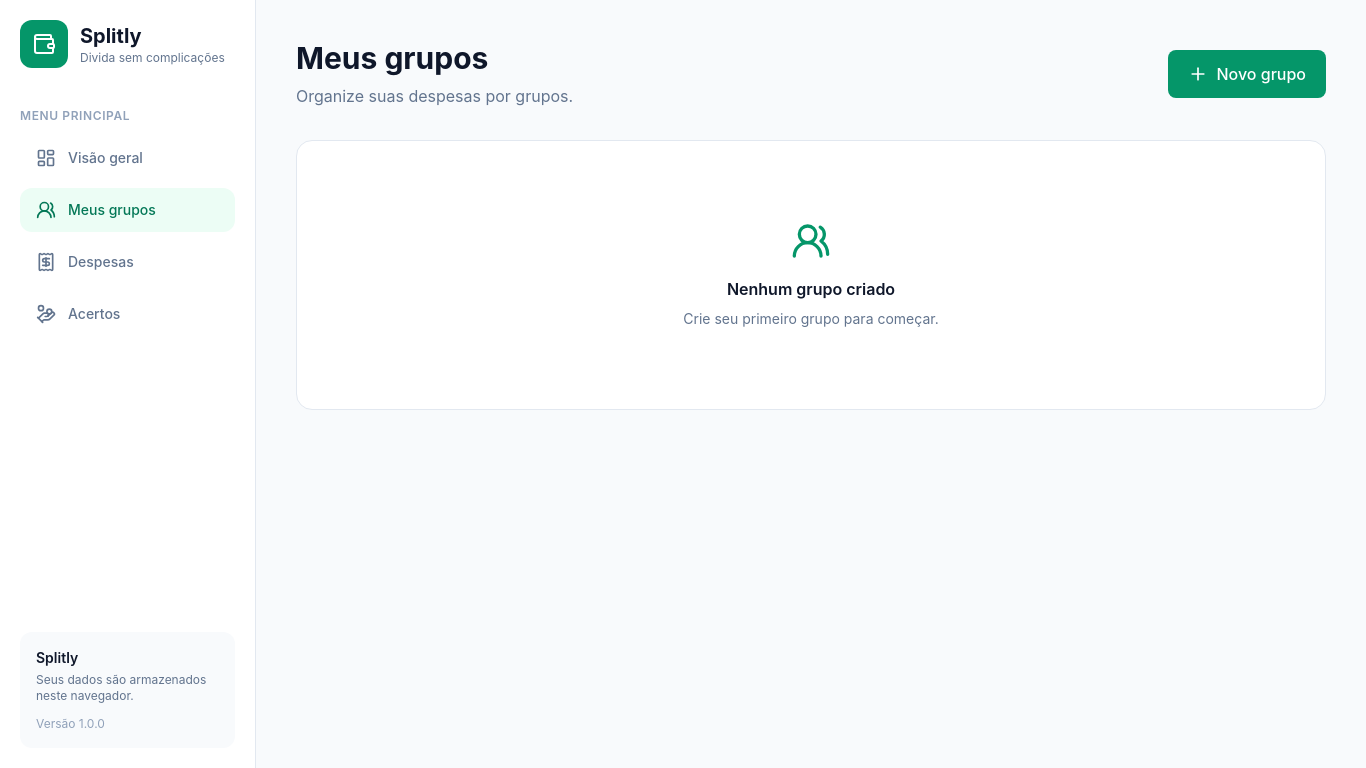
Test: Application integration › should create a group
Click the button "Novo grupo".
click(1247, 74)  # box left=1168, top=50, right=1326, bottom=98
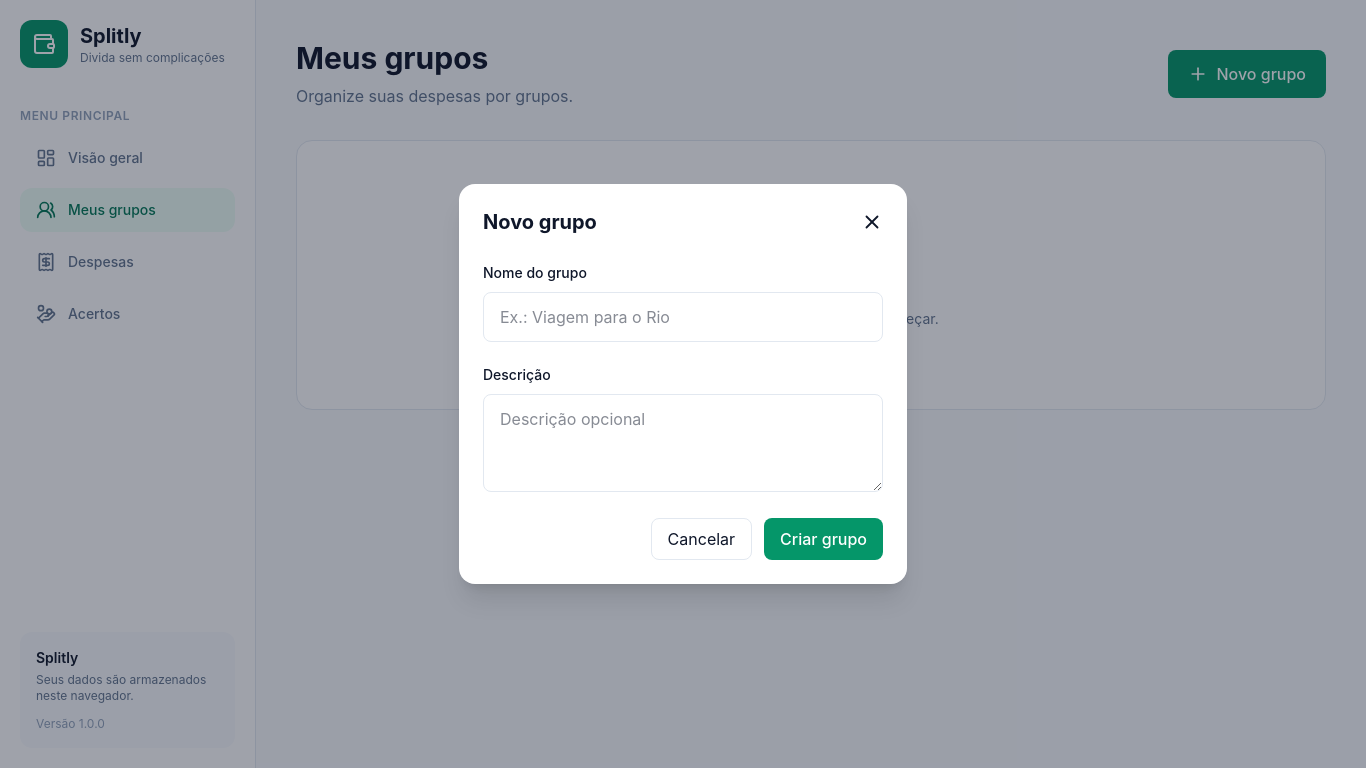
Type "Viagem" into the field labelled "Nome do grupo".
click(683, 317); type("Viagem")  # box left=483, top=292, right=883, bottom=342
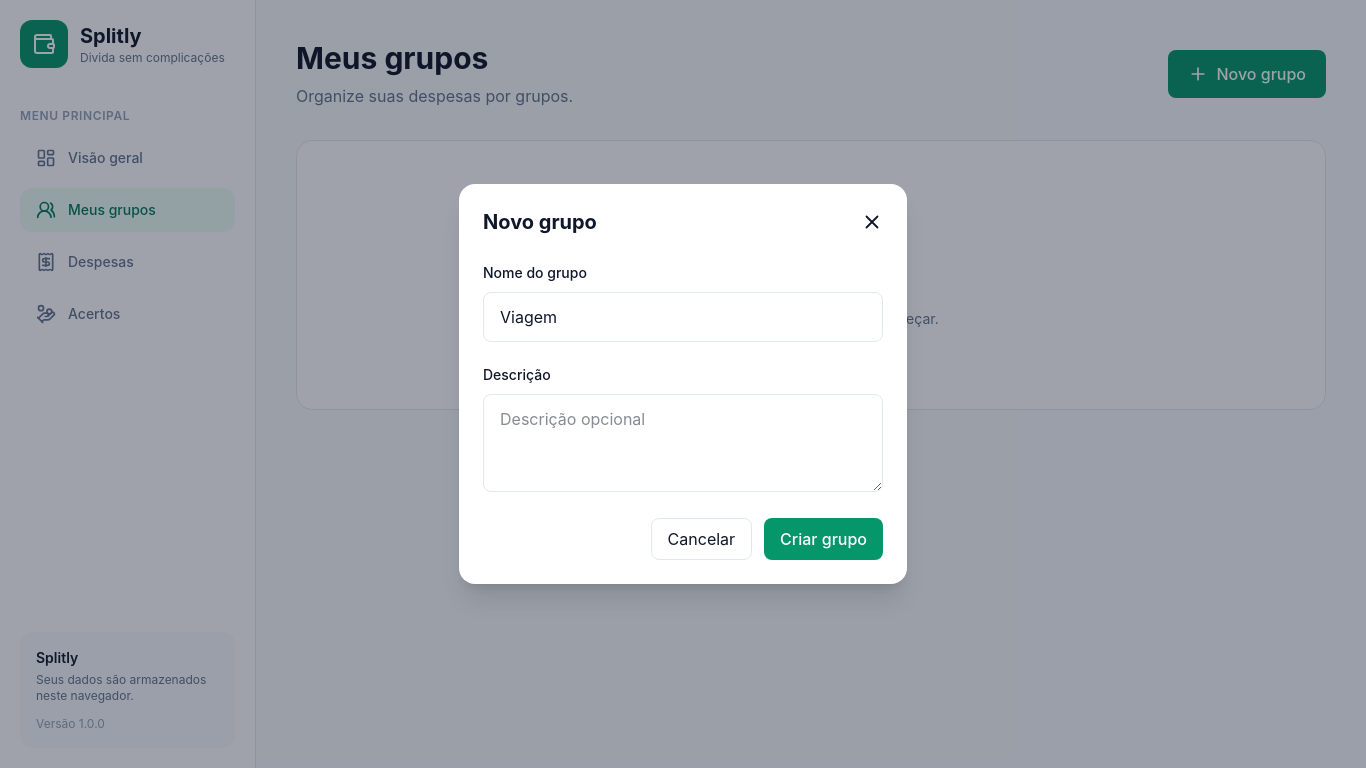
Click the button "Criar grupo".
click(824, 539)  # box left=764, top=518, right=883, bottom=560
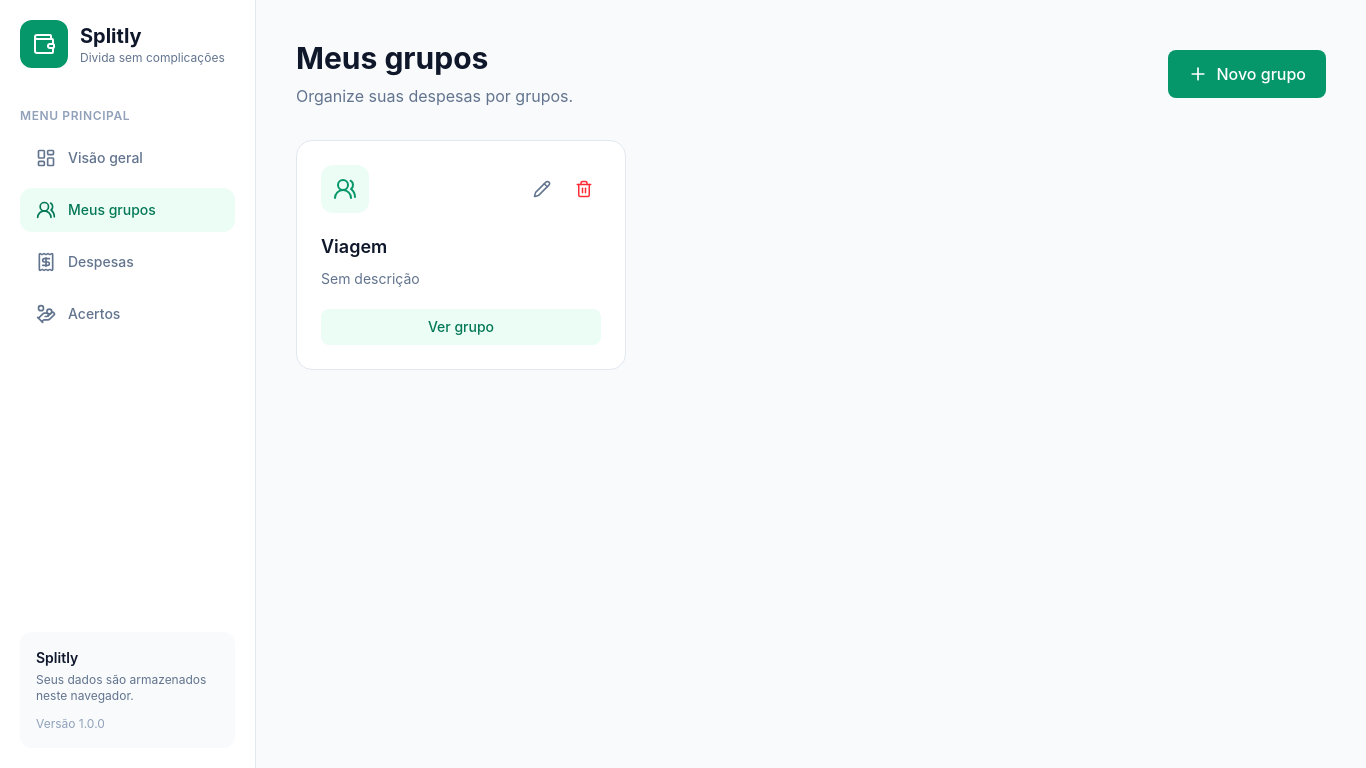
Expected: the heading "Viagem" is shown, left=321, top=236, right=387, bottom=257
